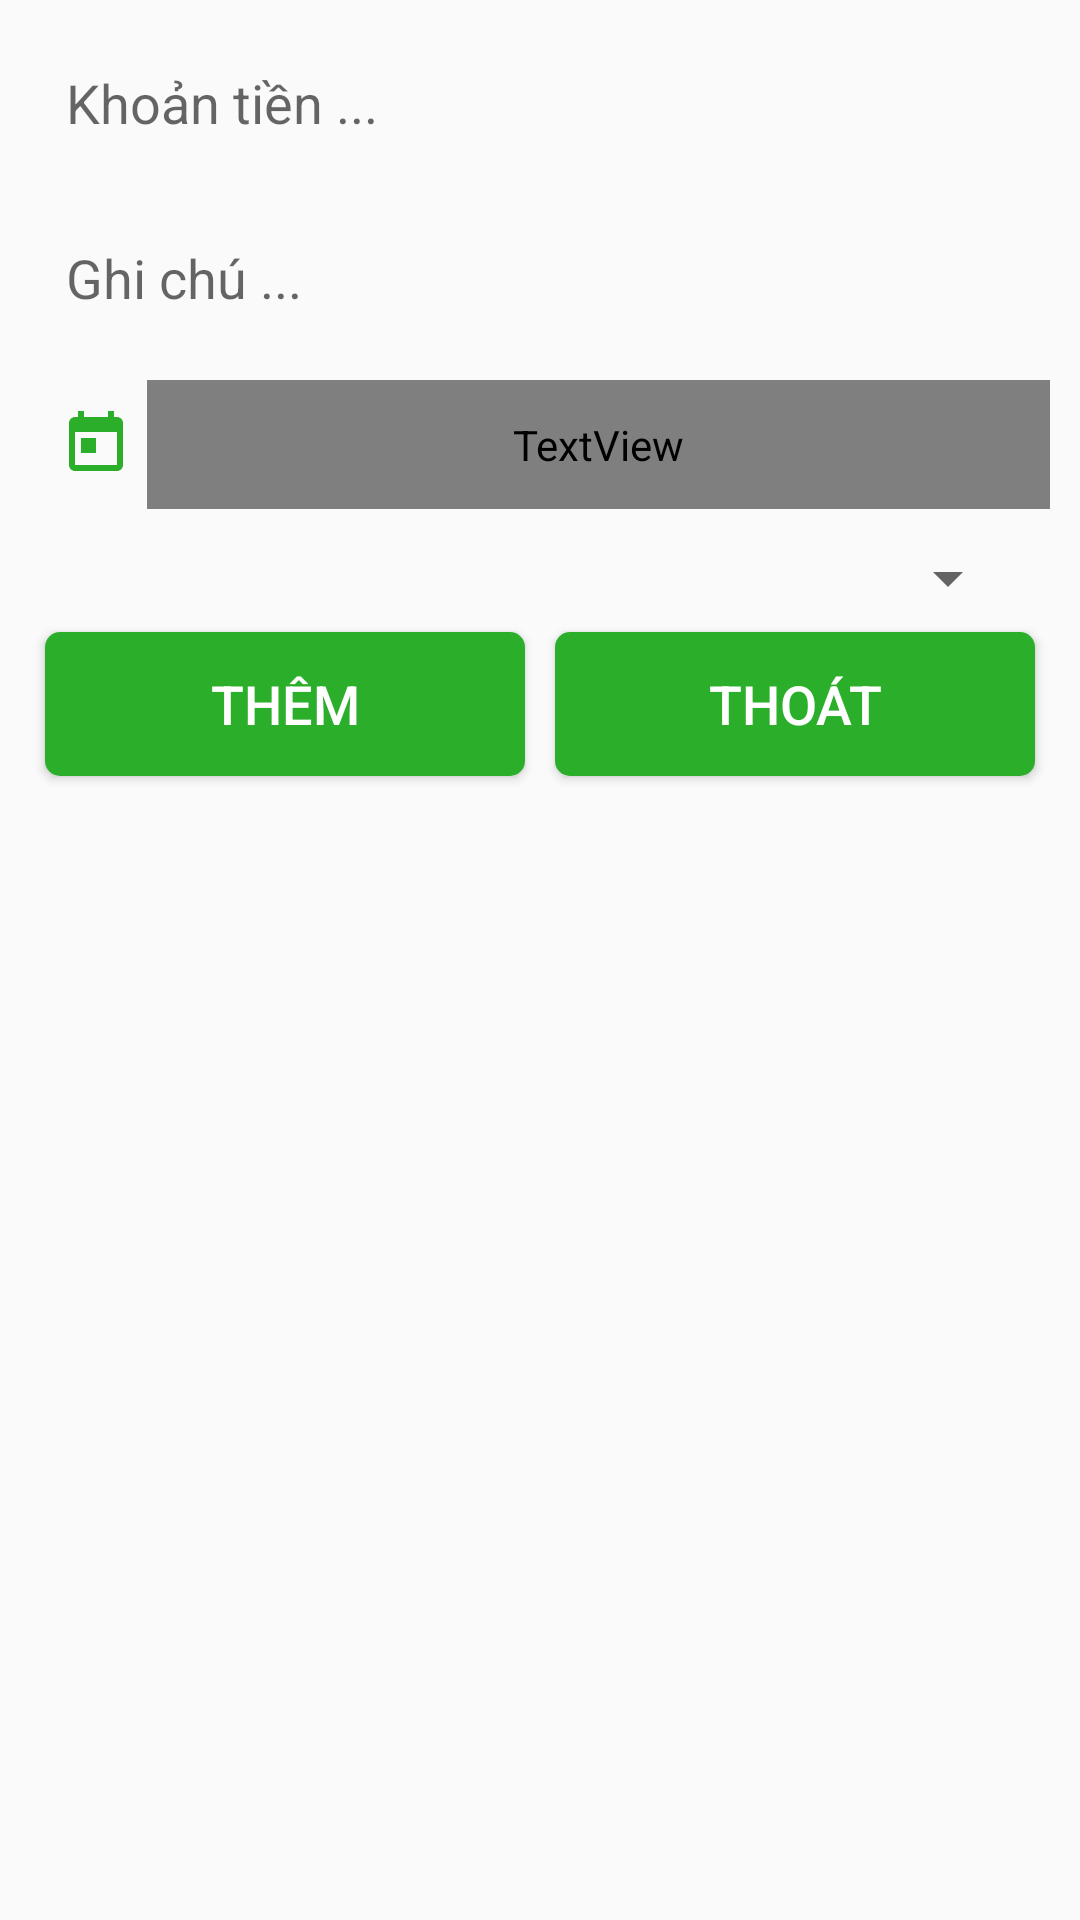

Locate icon controls on the screen. Image size 1080 x 1920, boxes as {"left": x1, "top": y1, "right": x2, "bottom": y2}.
today: {"left": 69, "top": 411, "right": 123, "bottom": 471}
